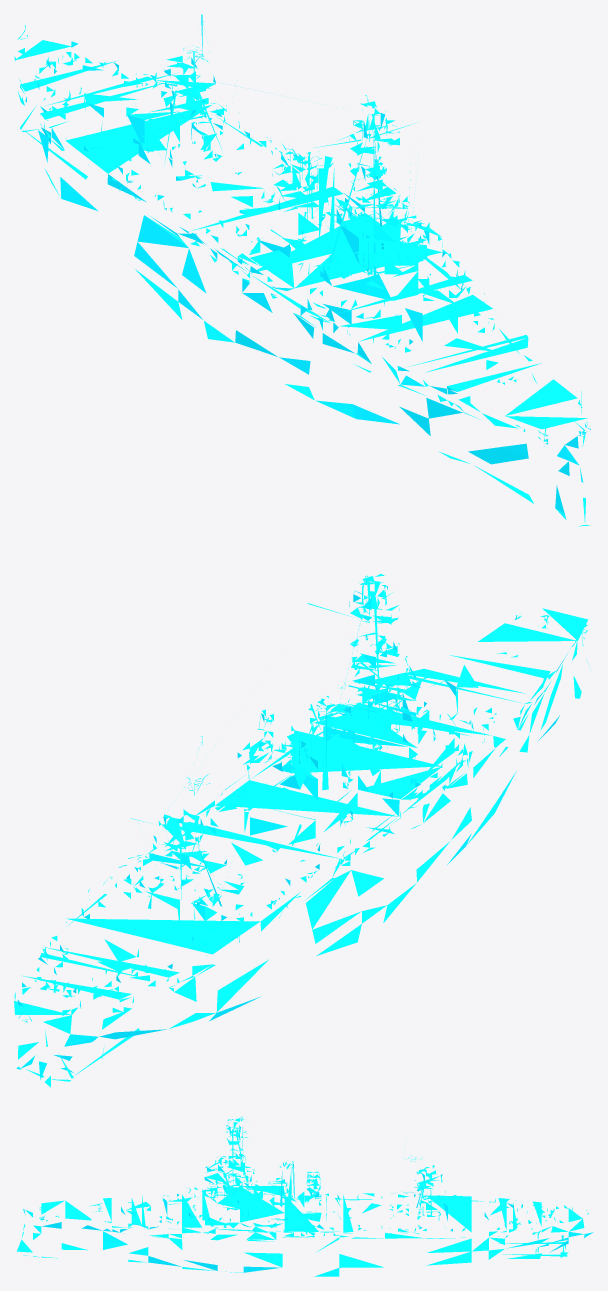
The model's file is Texas.glb.
The picture shows the model from 3 angles, top to bottom: view 1: azimuth 30°, elevation 25°; view 2: azimuth 150°, elevation 25°; view 3: azimuth 270°, elevation 25°; orthographic projection. The views are drawn at different scales.
Size of the model in its own units: 2.15 by 3.14 by 11.66.
